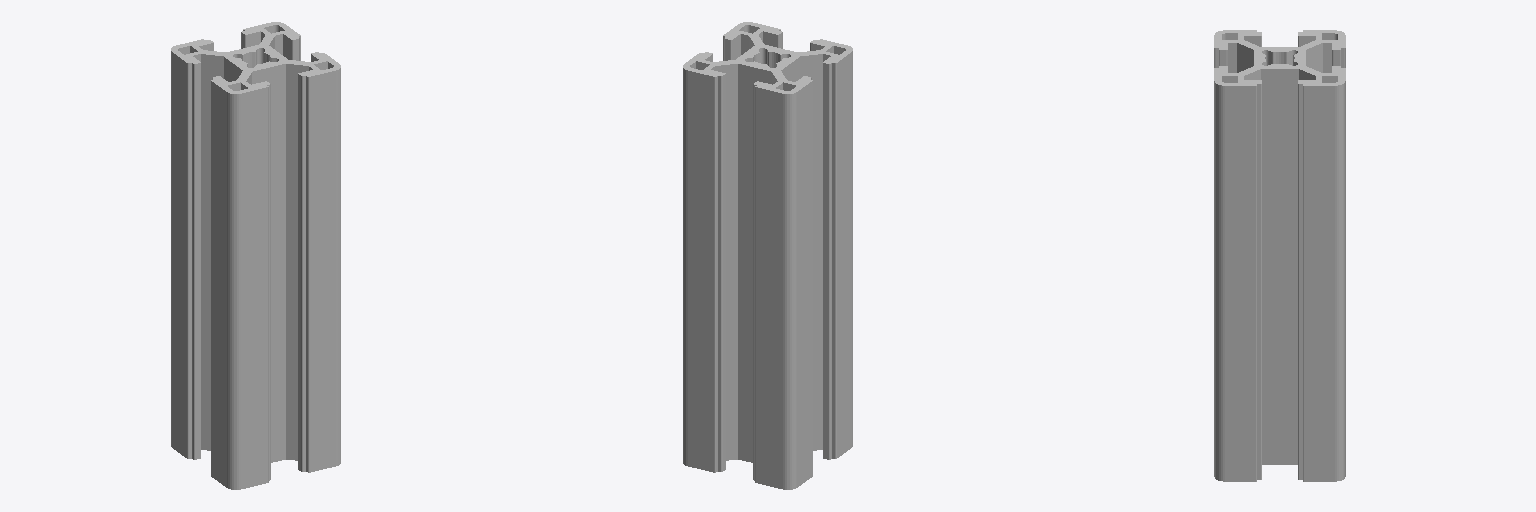
The model's file is Assembly_SMC_EE_Part_Middle.obj.
The picture shows the model from 3 angles: view 1: azimuth 30°, elevation 25°; view 2: azimuth 150°, elevation 25°; view 3: azimuth 270°, elevation 25°; orthographic projection.
Parts seen in each view (by area): view 1: Solid1; view 2: Solid1; view 3: Solid1.
Boxes of the visible parts, x1=… form: Solid1: x1=171, y1=22, x2=340, y2=489; Solid1: x1=683, y1=22, x2=852, y2=489; Solid1: x1=1214, y1=30, x2=1345, y2=481.
Size of the model in its own units: 30 by 100 by 30.